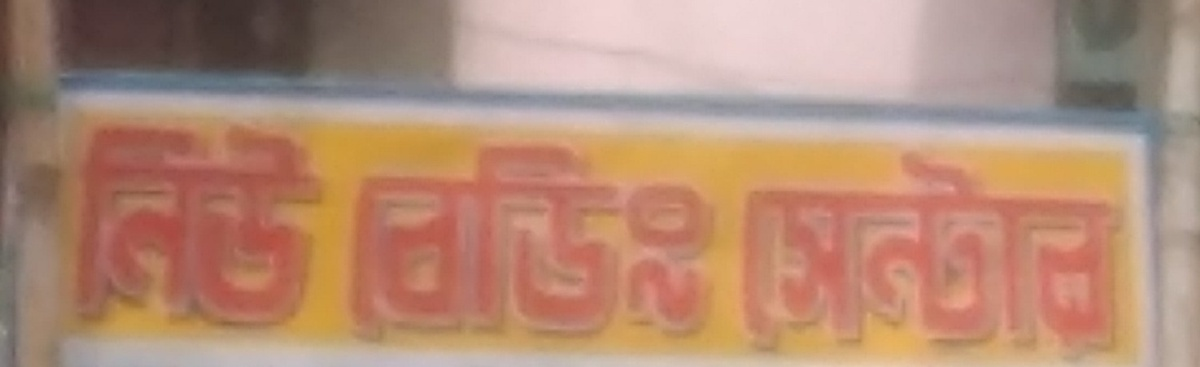text: (81, 112, 96, 335), (97, 112, 112, 335), (113, 112, 128, 335), (129, 112, 144, 335), (145, 112, 160, 335), (161, 112, 176, 335), (177, 112, 192, 335), (193, 112, 208, 335), (209, 112, 224, 335), (225, 112, 240, 335), (241, 112, 256, 335), (257, 112, 272, 335), (273, 112, 288, 335), (289, 112, 304, 335), (305, 112, 320, 335), (753, 145, 768, 365), (769, 145, 784, 365), (785, 145, 800, 365), (801, 145, 816, 365), (817, 145, 832, 365), (833, 145, 848, 365), (849, 145, 864, 365), (865, 145, 880, 365), (881, 145, 896, 365), (897, 145, 912, 365), (913, 145, 928, 365), (929, 145, 944, 365), (945, 145, 960, 365), (961, 145, 976, 365), (977, 145, 992, 365), (993, 145, 1008, 365), (1009, 145, 1024, 365), (1025, 145, 1040, 365), (1041, 145, 1056, 365), (1057, 145, 1072, 365), (1073, 145, 1088, 365), (1089, 145, 1104, 365), (1105, 145, 1120, 365), (369, 138, 384, 345), (385, 138, 400, 345), (401, 138, 416, 345), (417, 138, 432, 345), (433, 138, 448, 345), (449, 138, 464, 345), (465, 138, 480, 345), (481, 138, 496, 345), (497, 138, 512, 345), (513, 138, 528, 345), (529, 138, 544, 345), (545, 138, 560, 345), (561, 138, 576, 345), (577, 138, 592, 345), (593, 138, 608, 345), (609, 138, 624, 345), (625, 138, 640, 345), (641, 138, 656, 345), (657, 138, 672, 345), (673, 138, 688, 345), (689, 138, 704, 345), (705, 138, 720, 345), (321, 112, 334, 335), (1121, 145, 1133, 365), (356, 138, 368, 345), (743, 145, 752, 365), (721, 138, 729, 345), (77, 112, 80, 335)
